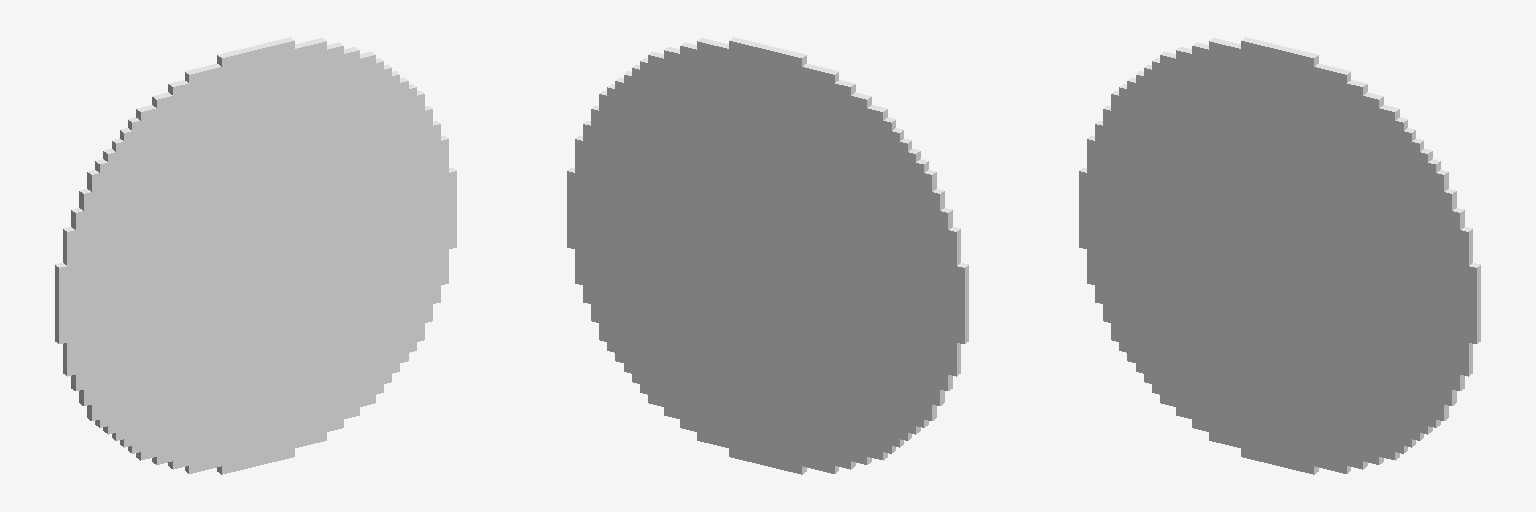
File: MC_Explode.obj
The picture shows the model from 3 angles: view 1: azimuth 30°, elevation 25°; view 2: azimuth 150°, elevation 25°; view 3: azimuth 330°, elevation 25°; orthographic projection.
Parts seen in each view (by area): view 1: MC_Explode; view 2: MC_Explode; view 3: MC_Explode.
Boxes of the visible parts, box(x1,y1,x2,y2) form: MC_Explode: box(55, 37, 456, 474); MC_Explode: box(567, 37, 968, 474); MC_Explode: box(1079, 37, 1480, 474).
Bounding box in the file's own units: 49 × 49 × 1.